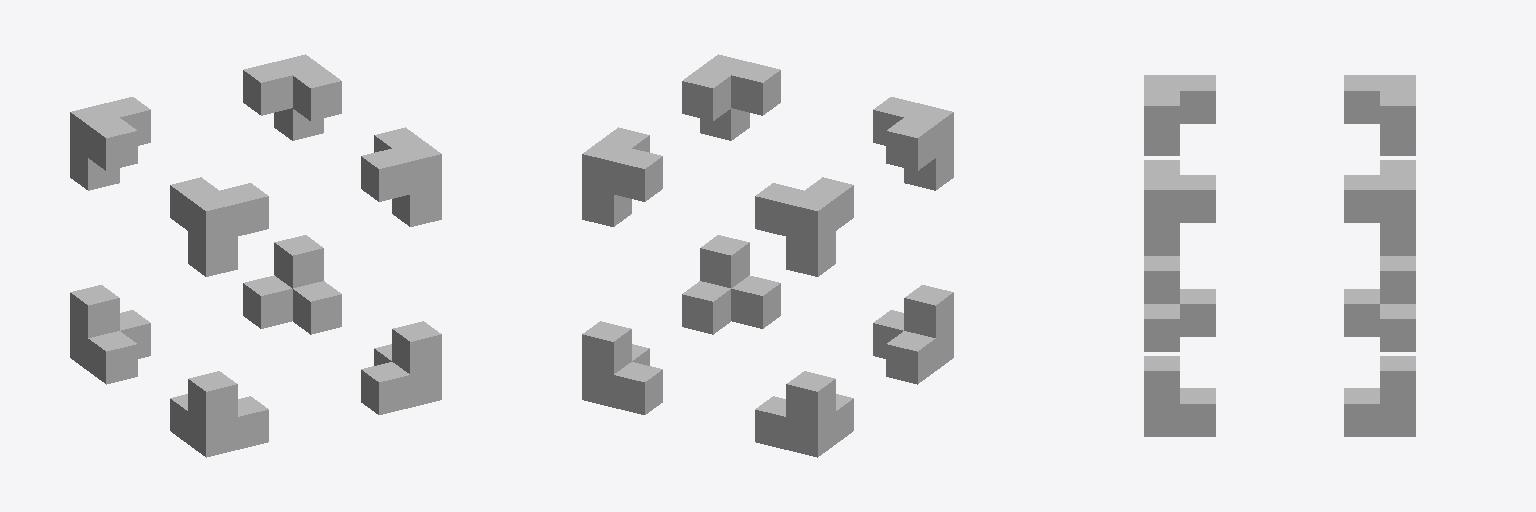
The model's file is BlockMarker.obj.
The picture shows the model from 3 angles: view 1: azimuth 30°, elevation 25°; view 2: azimuth 150°, elevation 25°; view 3: azimuth 270°, elevation 25°; orthographic projection.
Visible parts, largest first — view 1: polySurface25; view 2: polySurface25; view 3: polySurface25.
Boxes of the visible parts, <box> form: polySurface25: <box>70,54,441,457</box>; polySurface25: <box>582,54,953,457</box>; polySurface25: <box>1144,75,1415,436</box>.
Size of the model in its own units: 9.98 by 9.96 by 9.98.